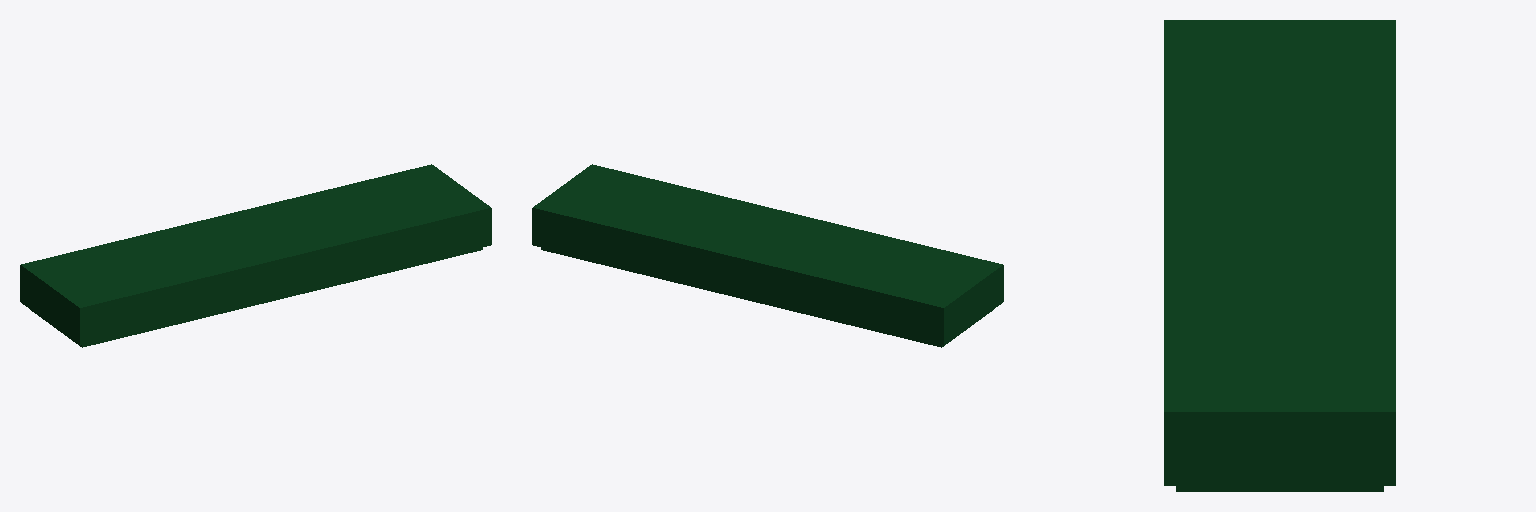
The robot description file, URDF, robot "2431__dark_green":
<?xml version="1.0"?>
<robot name="2431__dark_green">
  <link name="2431__dark_green">
    <inertial>
      <origin xyz="0.000000 0.000000 -0.001589" rpy="0 0 0"/>
      <mass value="0.000854"/>
      <inertia ixx="5.220835397e-09" ixy="1.979094239e-25" ixz="-2.582345859e-25" iyy="7.334529236e-08" iyz="-1.437261319e-26" izz="7.712696893e-08"/>
    </inertial>
    <visual>
      <geometry>
        <mesh filename="../meshes/visual/2431.obj" scale="1 1 1"/>
      </geometry>
      <material name="2431__dark_green_color">
        <color rgba="0.080 0.290 0.150 1.000"/>
      </material>
    </visual>
    <collision>
      <geometry>
        <mesh filename="../meshes/collision/2431_hull.obj" scale="1 1 1"/>
      </geometry>
    </collision>
  </link>
</robot>

--- Render facts (derived) ---
The picture shows the robot from 3 angles, left to right: view 1: azimuth 30°, elevation 25°; view 2: azimuth 150°, elevation 25°; view 3: azimuth 270°, elevation 25°; orthographic projection.
Robot: 2431__dark_green — 1 links, 0 joints (none); root link 2431__dark_green; default pose: every joint at zero.
Links seen in each view (by area): view 1: 2431__dark_green; view 2: 2431__dark_green; view 3: 2431__dark_green.
Boxes of the visible links, x1,y1,x2,y2 form: 2431__dark_green: (20,164,491,347); 2431__dark_green: (532,164,1003,347); 2431__dark_green: (1164,20,1395,491).
Size in the robot's own frame: 0.032 by 0.008 by 0.0032 metres.
Meshes: 1 distinct files referenced, 1 mesh visuals loaded (1 OBJ).
